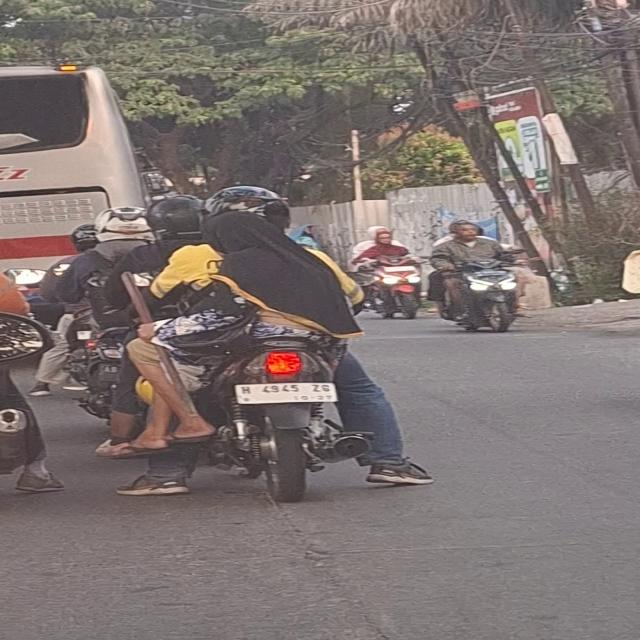WithHelmet: (115, 185, 435, 497), (28, 206, 172, 397), (37, 224, 107, 304), (143, 194, 210, 260)
WithoutHelmet: (180, 208, 344, 366), (434, 220, 529, 333), (336, 226, 429, 320)
